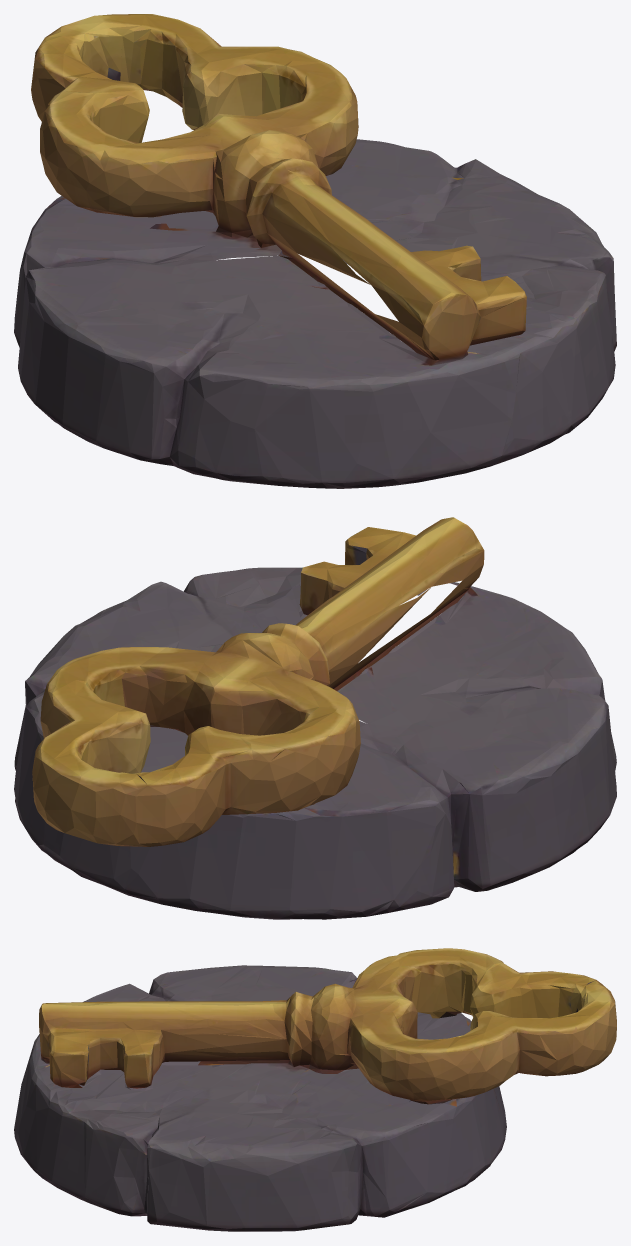
File: key.glb
3 views of the same model, one above another, from view 1: azimuth 30°, elevation 25°; view 2: azimuth 150°, elevation 25°; view 3: azimuth 270°, elevation 25° (orthographic). The views are drawn at different scales.
Visible parts, largest first — view 1: geometry_0; view 2: geometry_0; view 3: geometry_0.
Boxes of the visible parts, bbox=[...] form: geometry_0: bbox=[14, 14, 616, 488]; geometry_0: bbox=[14, 517, 616, 919]; geometry_0: bbox=[14, 948, 616, 1231].
Bounding box in the file's own units: 0.4676 × 0.1647 × 0.5992.
1 material, 1 textured.
